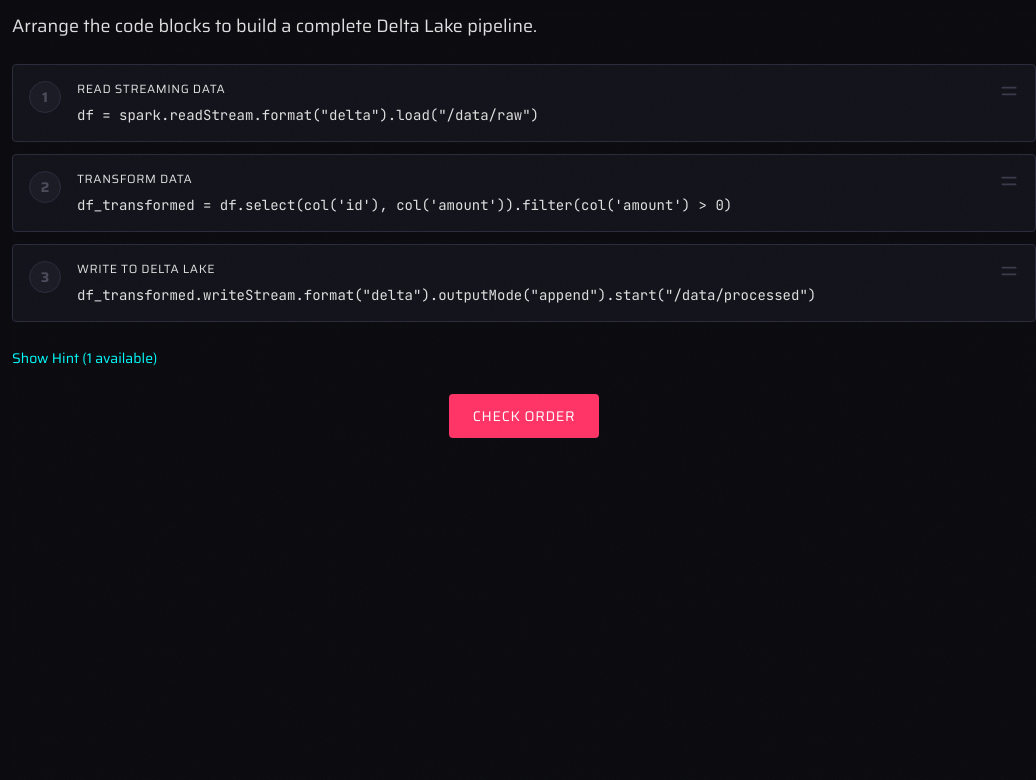
it: DragDropChallenge › Validation › validates correct order when check button is clicked
This screenshot has width=1036, height=780.
Step 1. Click the button "Check Order" → (524, 416), box x1=449 y1=394 x2=599 y2=438
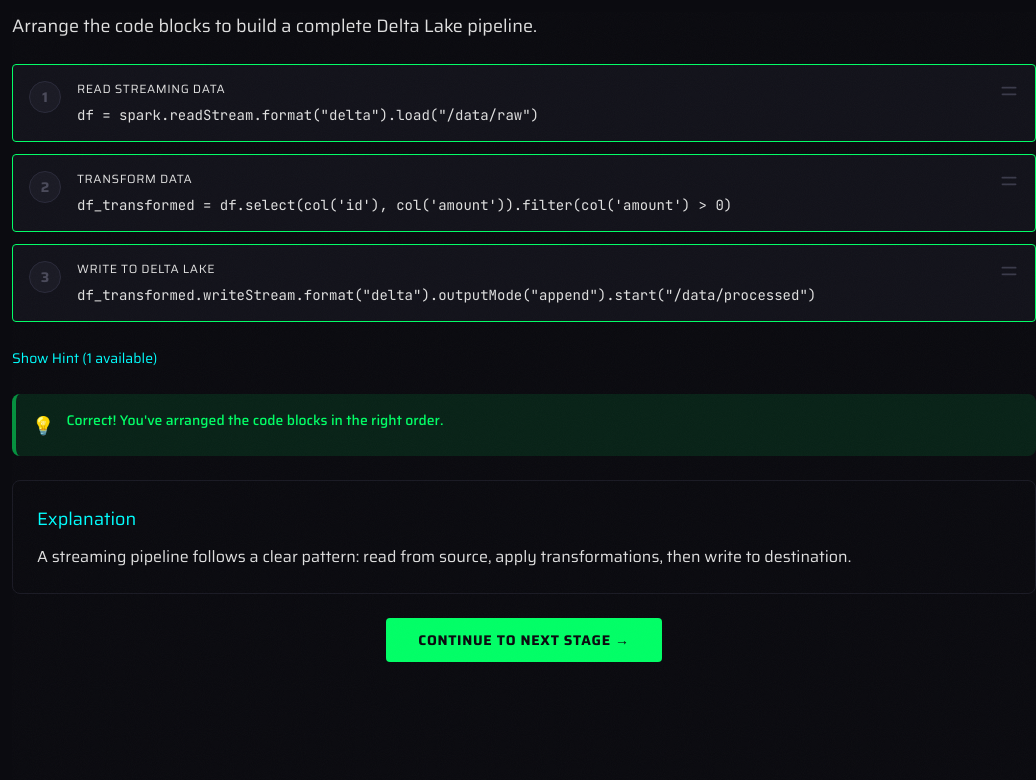
Now the text "Correct! You've arranged the code blocks in the right order." is shown, box x1=66 y1=409 x2=444 y2=431
